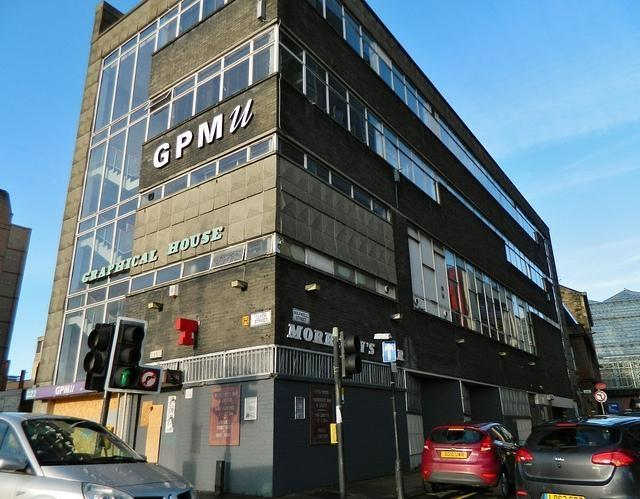car: (0, 412, 198, 499), (517, 415, 639, 499), (419, 422, 524, 494)
